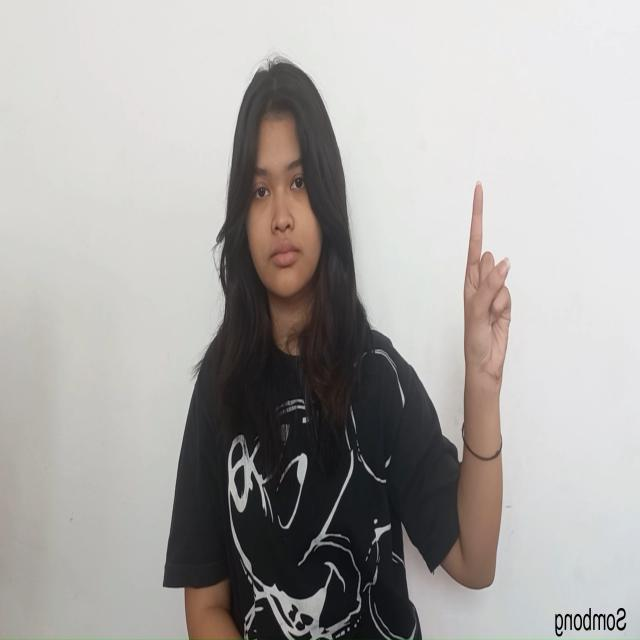Sombong -BISINDO-: (462, 178, 514, 397)
